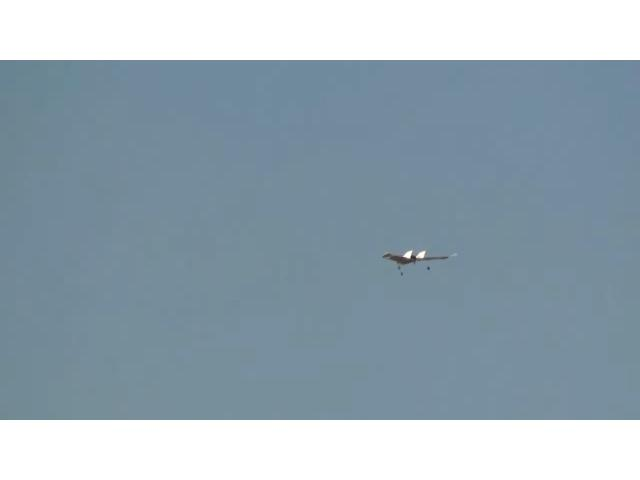Anti-Drone: (383, 251, 457, 265)
